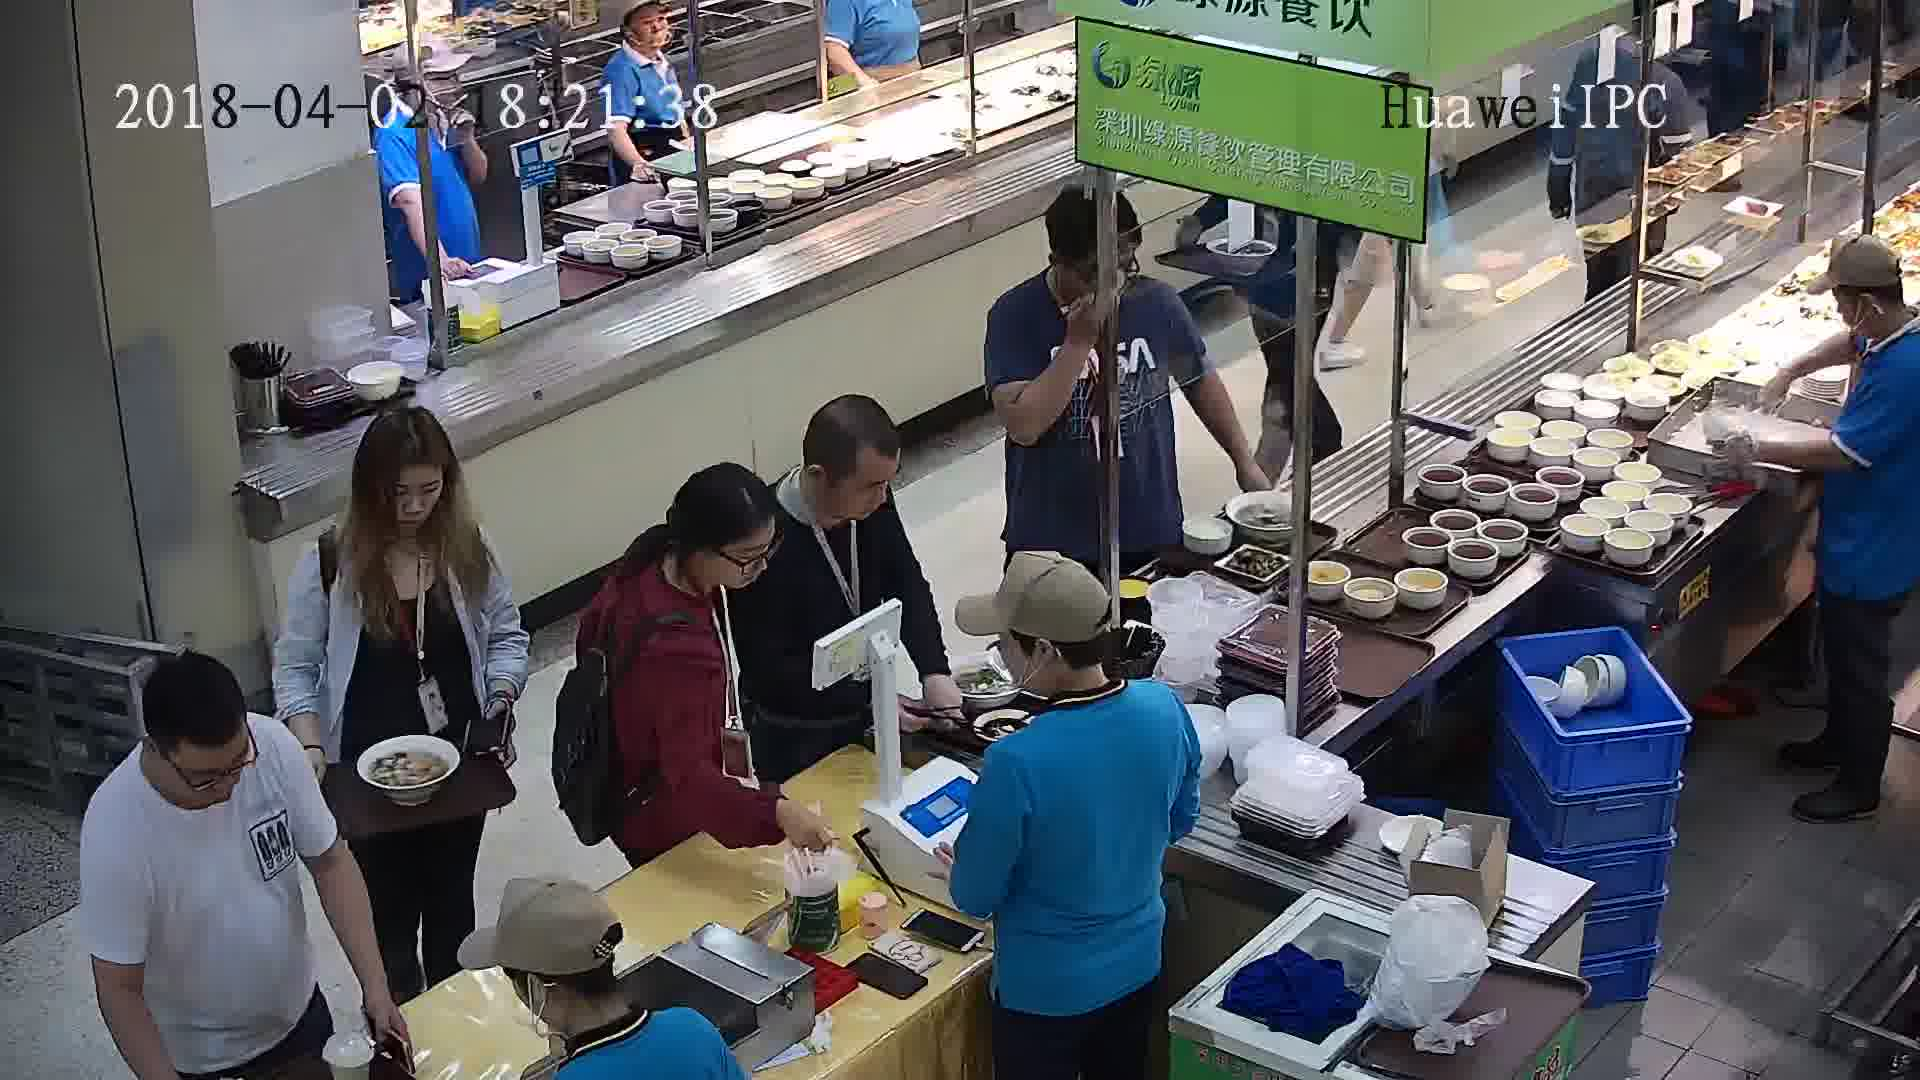face: (373, 457, 453, 537), (827, 446, 904, 523), (170, 736, 241, 807), (716, 528, 775, 587)
person: (967, 548, 1197, 801), (78, 647, 321, 870), (482, 870, 734, 1079), (293, 404, 512, 626), (603, 458, 778, 674), (741, 394, 911, 582), (996, 184, 1121, 343), (1811, 240, 1920, 402), (376, 24, 482, 165), (601, 2, 682, 86)
